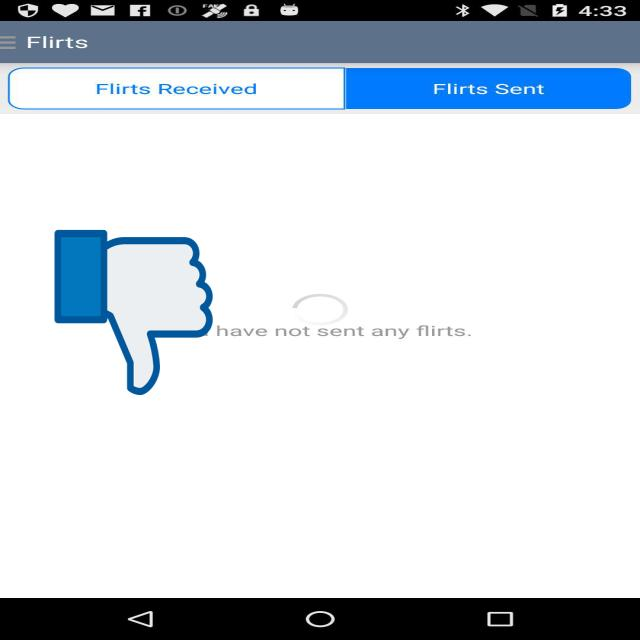obstruction: (54, 226, 212, 399)
